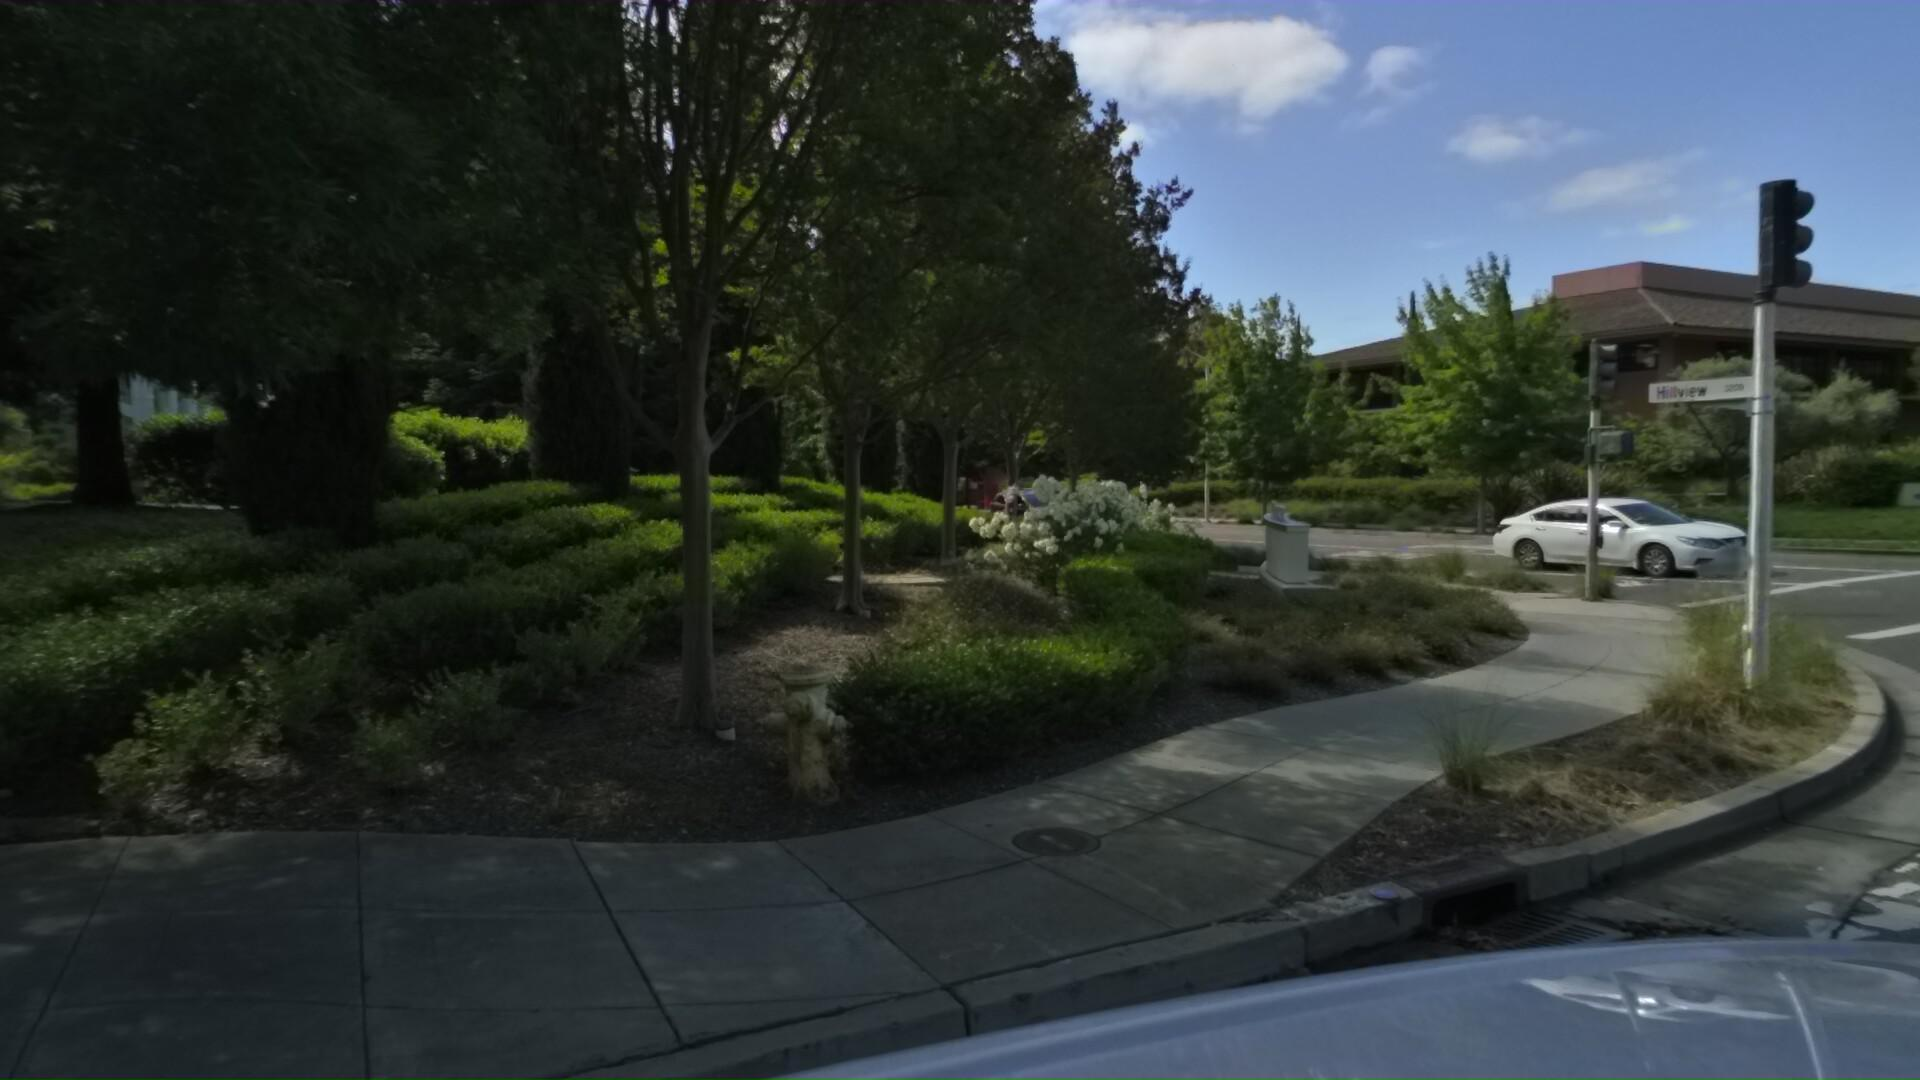car: (1491, 480, 1778, 579), (975, 481, 1096, 535)
